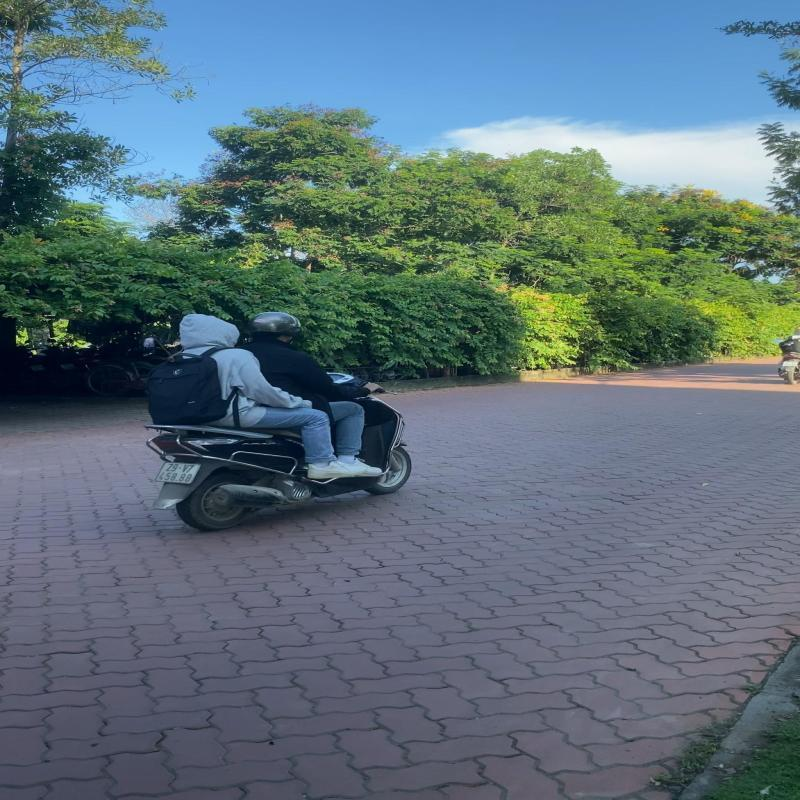helmet: (248, 312, 306, 338)
licenseplate: (154, 461, 203, 485)
motorcyclist: (141, 310, 414, 531)
